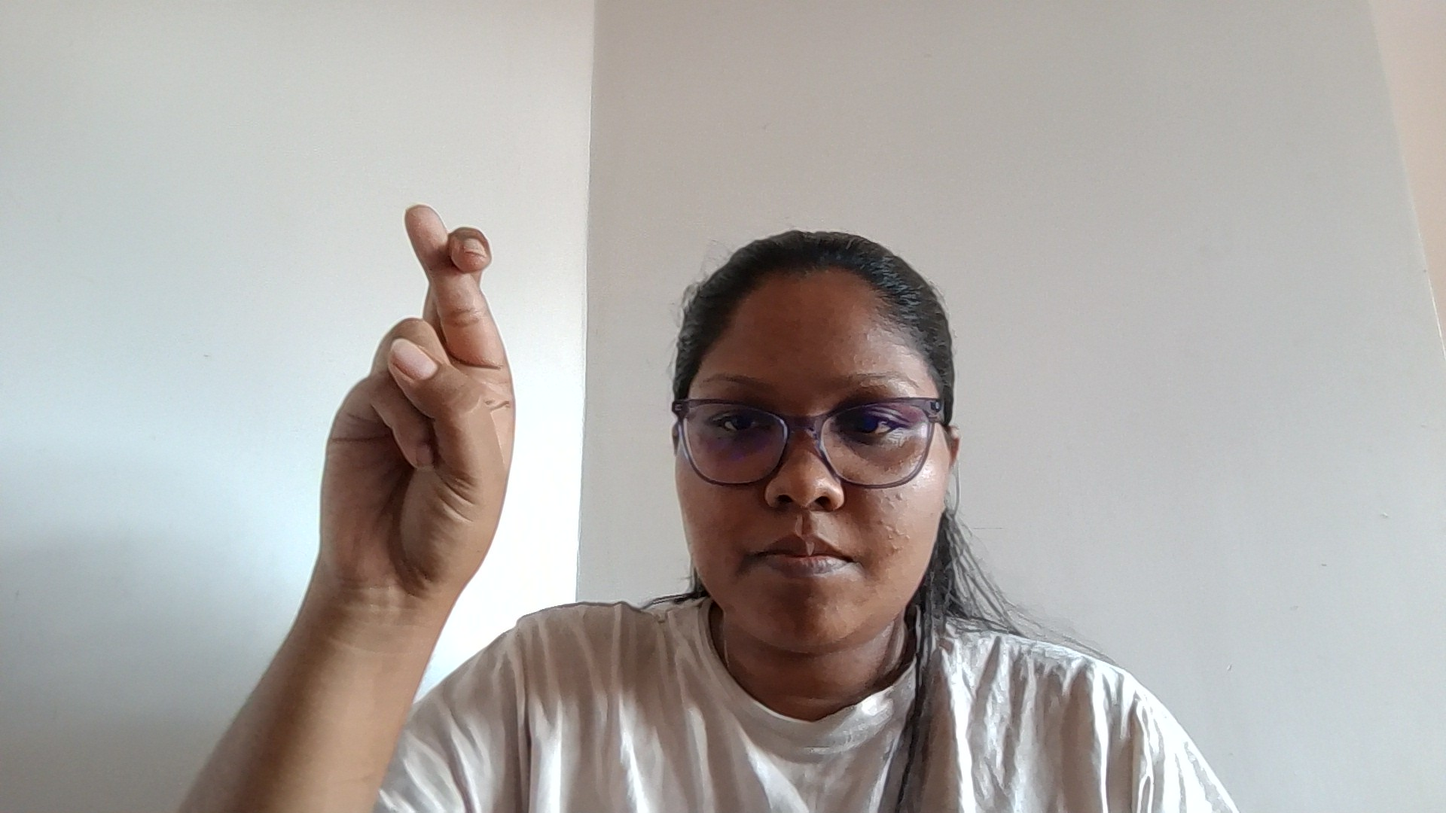Good_Luck: (183, 164, 623, 673)
